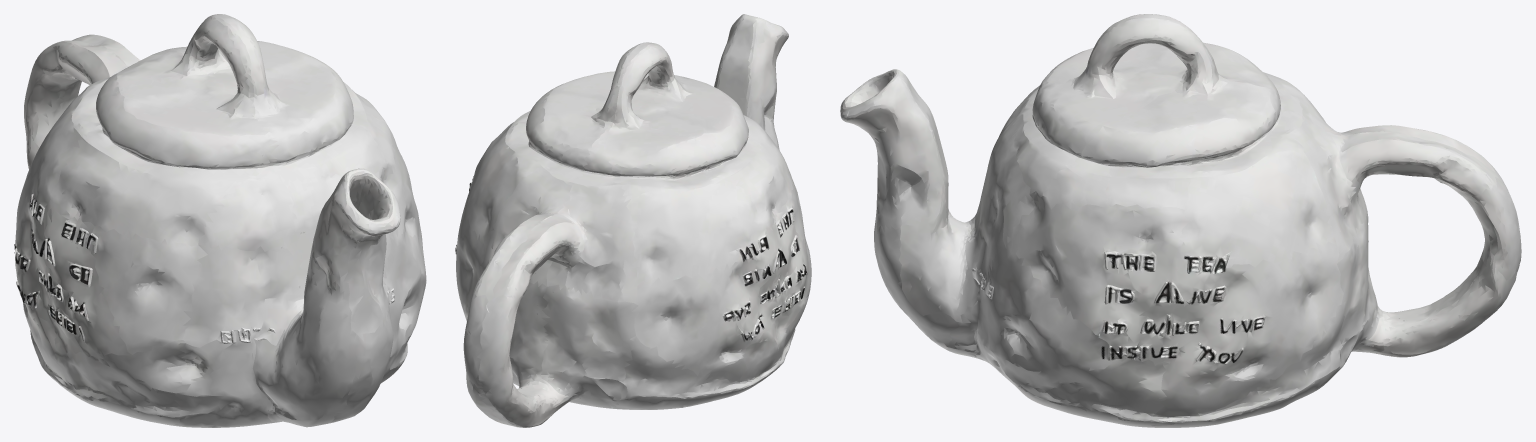
File: 08_18_ds-ss_tat_teapot-v2.glb
3 views of the same model, side by side, from view 1: azimuth 30°, elevation 25°; view 2: azimuth 150°, elevation 25°; view 3: azimuth 270°, elevation 25° (orthographic). The views are drawn at different scales.
Parts seen in each view (by area): view 1: tripo_node_ff2c3d64-8c1f-4c90-9e85-595a46bd40b8; view 2: tripo_node_ff2c3d64-8c1f-4c90-9e85-595a46bd40b8; view 3: tripo_node_ff2c3d64-8c1f-4c90-9e85-595a46bd40b8.
Boxes of the visible parts, x1,y1,x2,y2 form: tripo_node_ff2c3d64-8c1f-4c90-9e85-595a46bd40b8: [14, 14, 426, 427]; tripo_node_ff2c3d64-8c1f-4c90-9e85-595a46bd40b8: [455, 14, 811, 427]; tripo_node_ff2c3d64-8c1f-4c90-9e85-595a46bd40b8: [840, 14, 1521, 427].
Bounding box in the file's own units: 0.13 × 0.1273 × 0.2244.
1 material, 1 textured.
